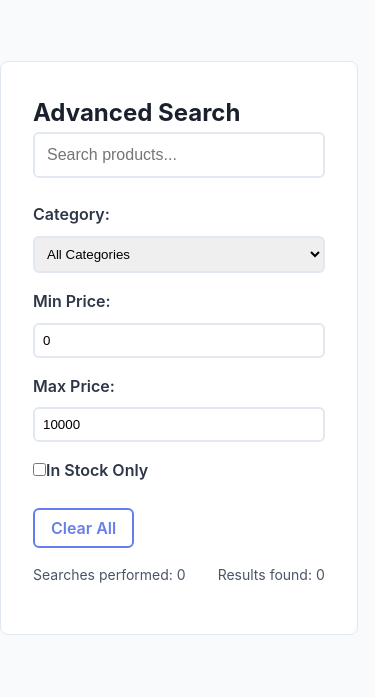
Test: SearchFilter Component › clears all filters when clear button is clicked
The image size is (375, 697).
Type "laptop" into the field with placeholder "Search products..." at (179, 155), box [33,132,325,178]
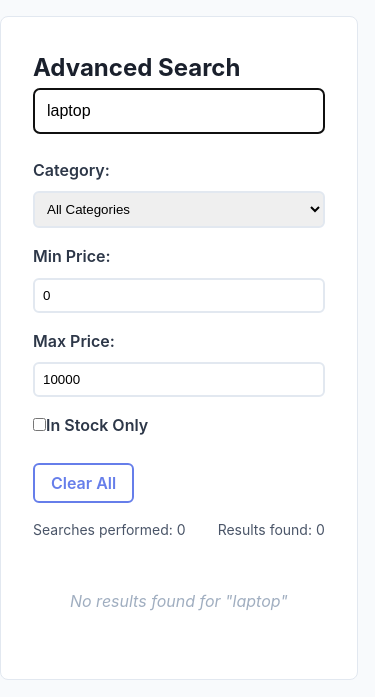
Select "Electronics" in the dropdown labelled "Category:" at (179, 210), box [33,191,325,228]
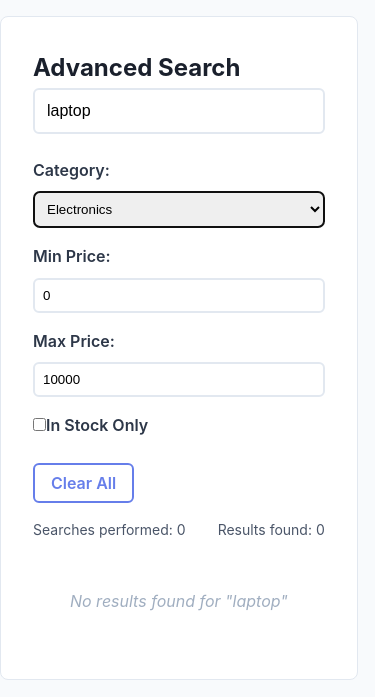
Click the checkbox labelled "In Stock Only" at (40, 425), box [33,418,46,431]
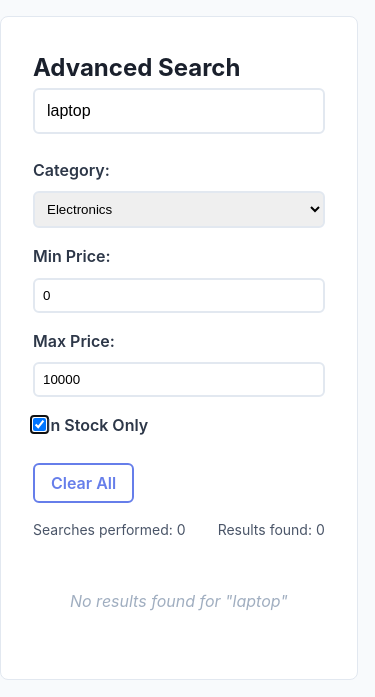
Clear all
Click the button "Clear All" at (84, 483), box [33,463,134,503]
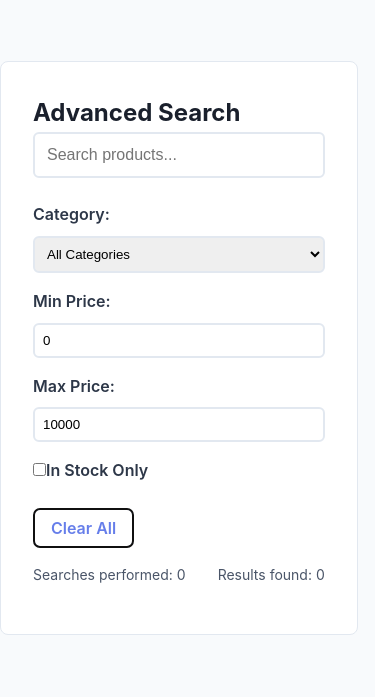
Expected: the checkbox labelled "In Stock Only" is not checked, [33,463,46,476]
Expected: the field with placeholder "Search products..." is empty, [33,132,325,178]
